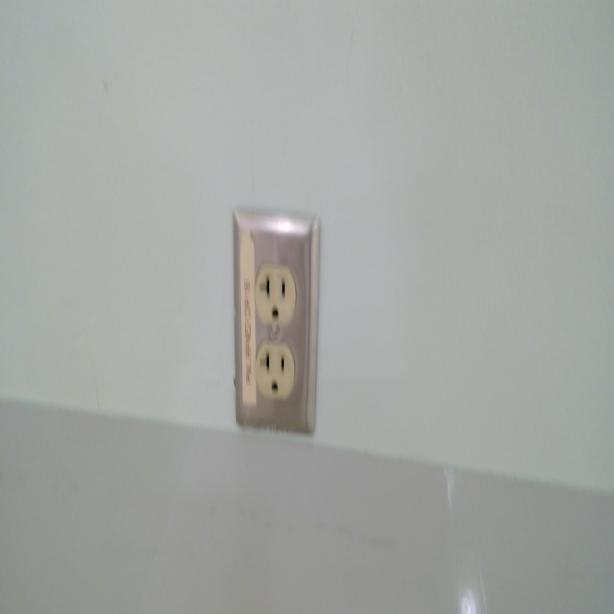typeb: (256, 262, 294, 325), (259, 347, 290, 399)
